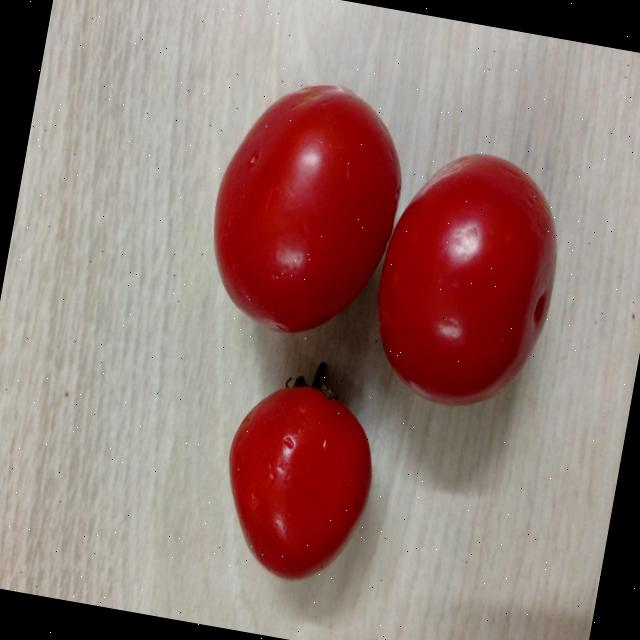Ripe: (190, 61, 421, 354), (357, 133, 578, 424), (202, 367, 388, 596)
